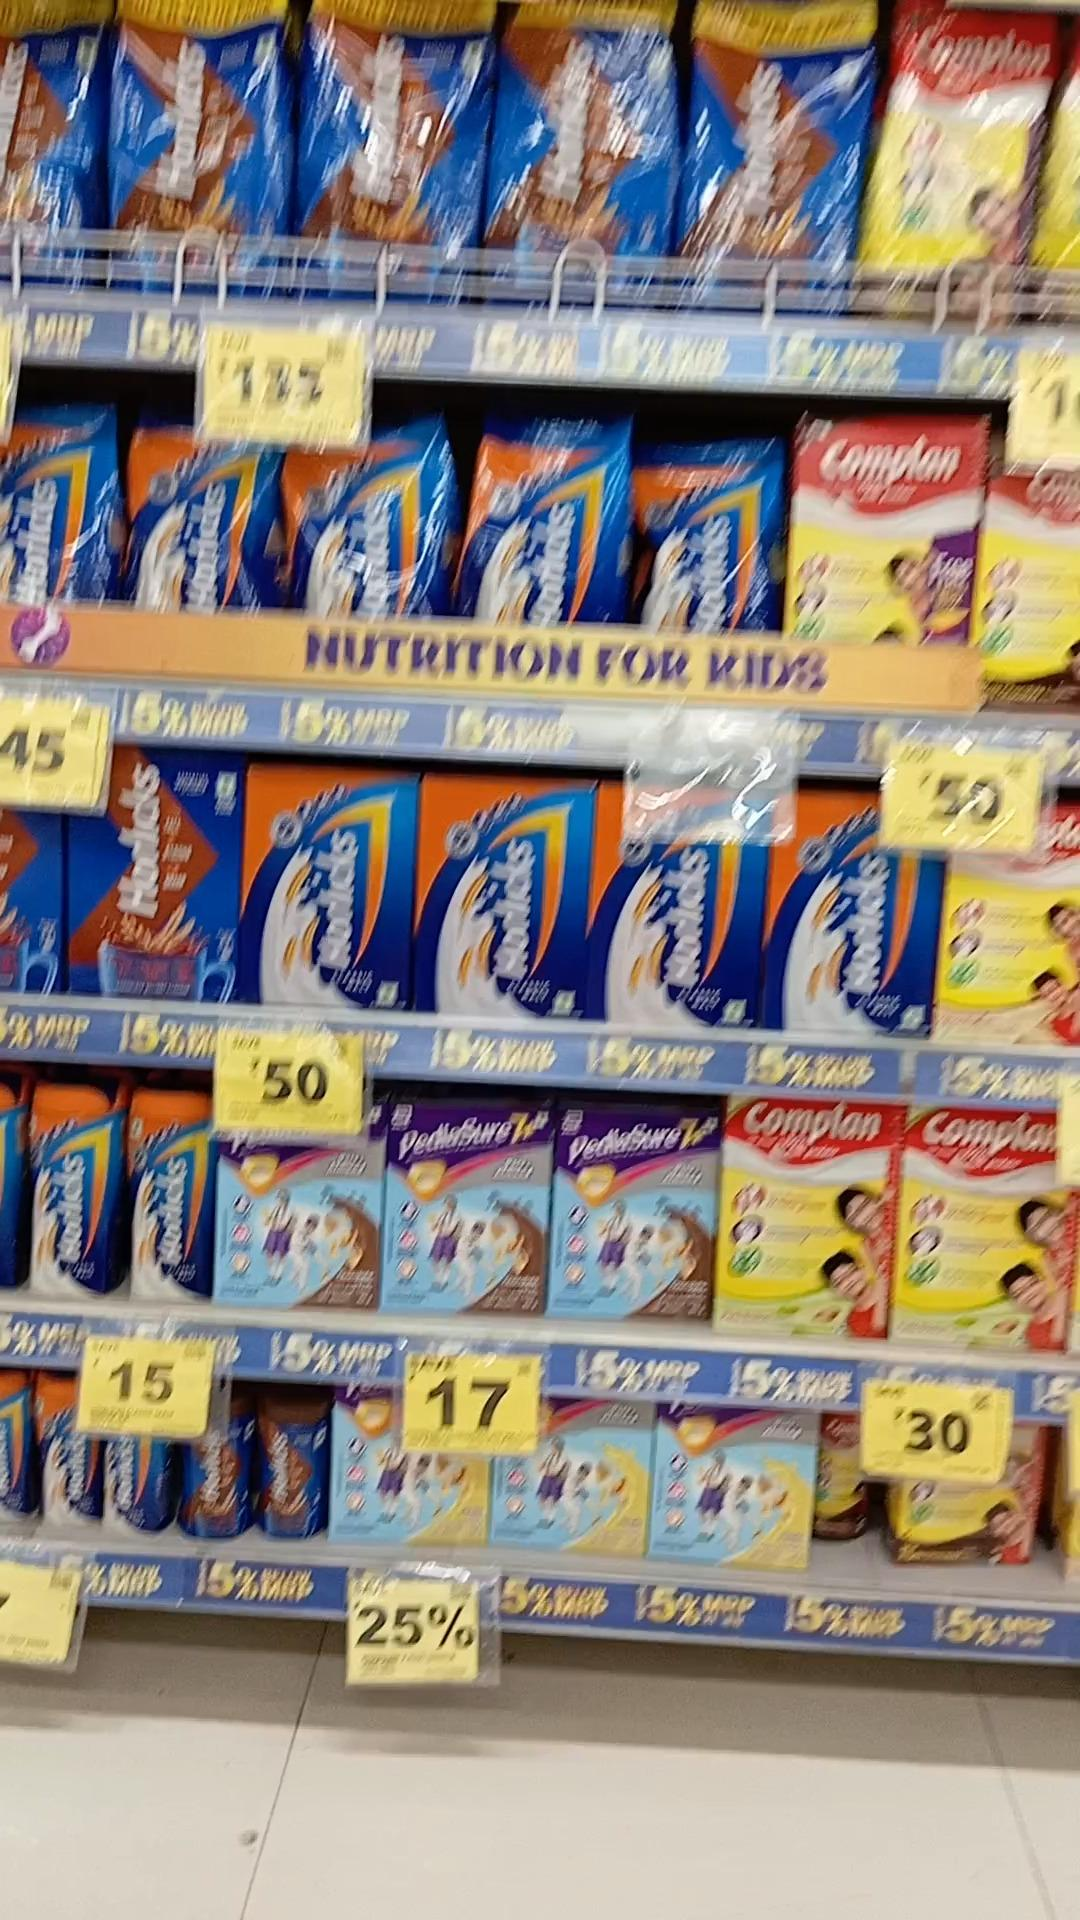COMPLAN_PISTA_BADAM_500_GMS_PACK: (891, 1109, 1076, 1364), (719, 1096, 882, 1345)
HORLICK_CHOCOLATE_200_G_JAR: (256, 1393, 330, 1538)
HORLICK_CHOCOLATE_500_G_PACK: (66, 749, 247, 1000)
HORLICK_CLASSIC_MALT_500_G_JAR: (25, 1069, 123, 1296), (128, 1087, 212, 1303)
HORLICK_CLASSIC_MALT_500_G_PACK: (253, 754, 423, 1021), (589, 785, 758, 1033), (765, 790, 934, 1031), (427, 767, 585, 1021)
PEDIASURE_7_PLUS_CHOCOLATE_400_G_PACK: (380, 1092, 547, 1312), (553, 1089, 712, 1319)
